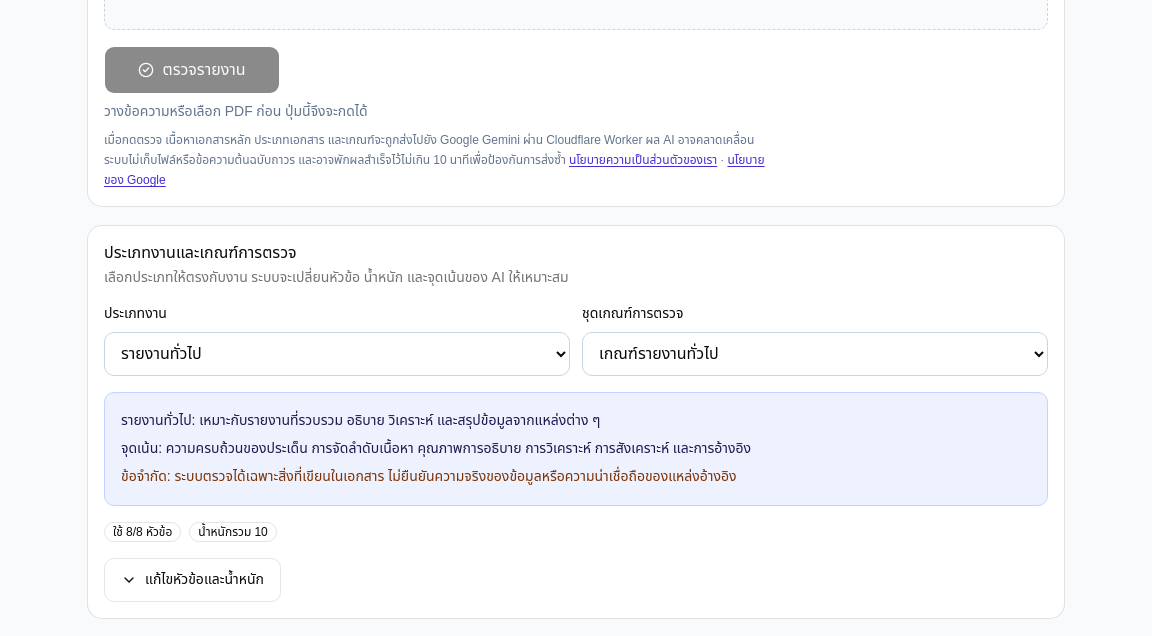
Test case: App › switches the full rubric and explanation with the document type
(page scrolled)
Expected: the text "ใช้ 8/8 หัวข้อ" is shown, [104,522,181,542]
Expected: the text "รวบรวม อธิบาย วิเคราะห์ และสรุปข้อมูล" is shown, [199,410,600,431]
Select "โครงงาน" in the dropdown labelled "ประเภทงาน": (337, 354) [104,332,570,376]
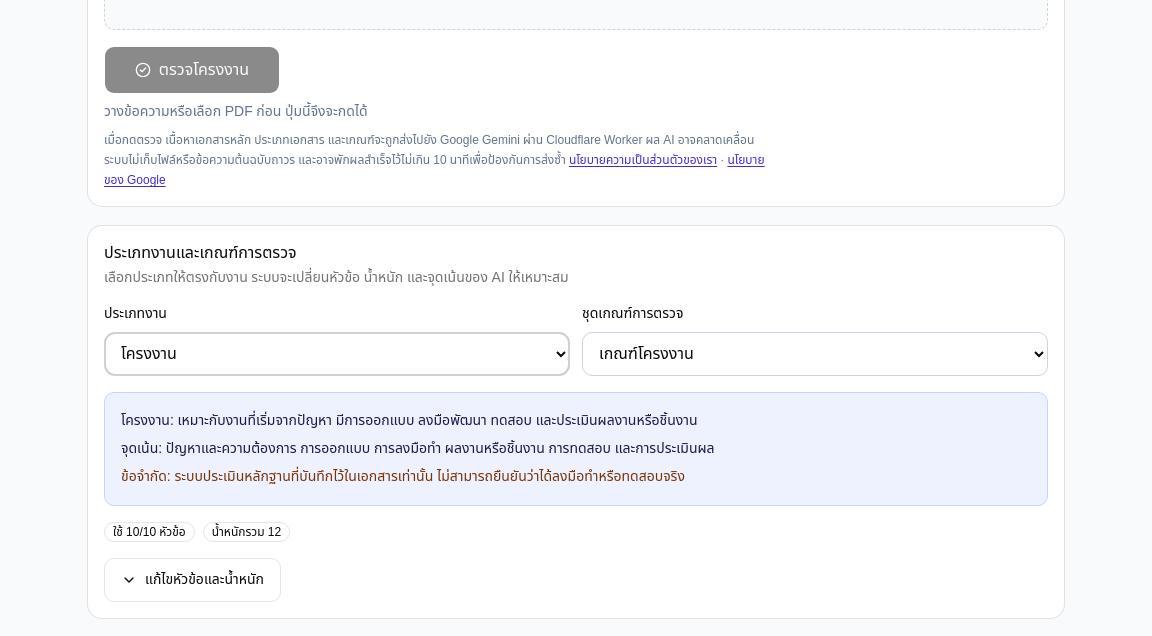
Now the dropdown labelled "ชุดเกณฑ์การตรวจ" shows "เกณฑ์โครงงาน", box [582,332,1048,376]
Now the text "ใช้ 10/10 หัวข้อ" is shown, box [104,522,195,542]
Now the text "ไม่สามารถยืนยันว่าได้ลงมือทำหรือทดสอบจริง" is shown, box [174,466,685,487]
Select "รายงานวิจัย" in the dropdown labelled "ประเภทงาน": (337, 354) [104,332,570,376]
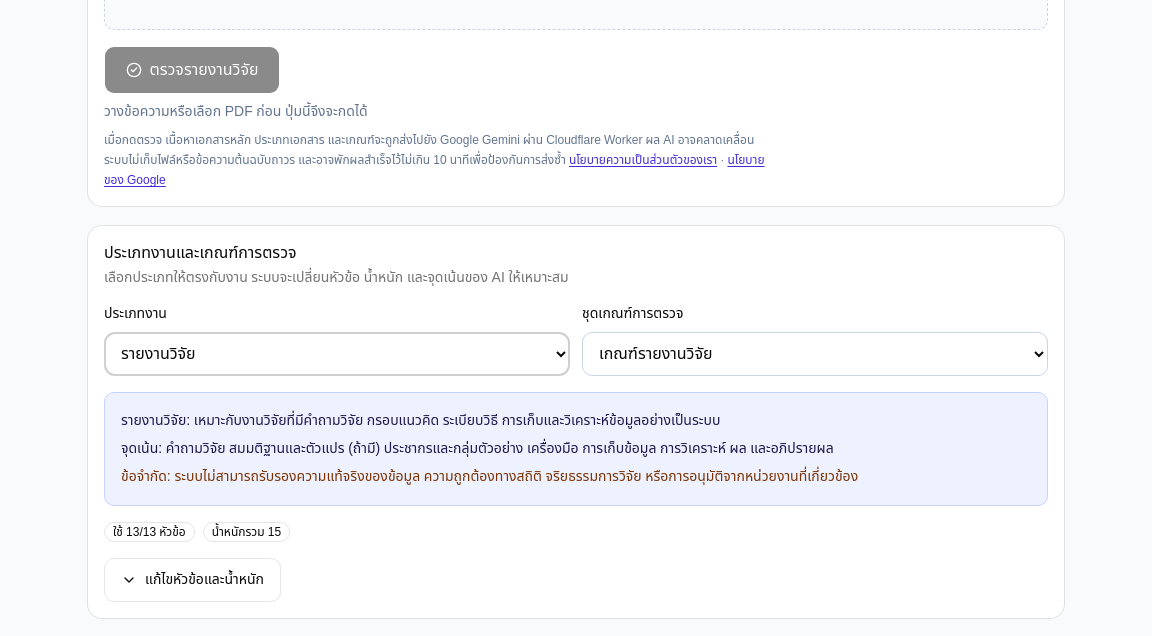
Now the dropdown labelled "ชุดเกณฑ์การตรวจ" shows "เกณฑ์รายงานวิจัย", box [582,332,1048,376]
Now the text "ใช้ 13/13 หัวข้อ" is shown, box [104,522,195,542]
Click the button "แก้ไขหัวข้อและน้ำหนัก": (192, 580) [104,558,281,602]
(page scrolled)
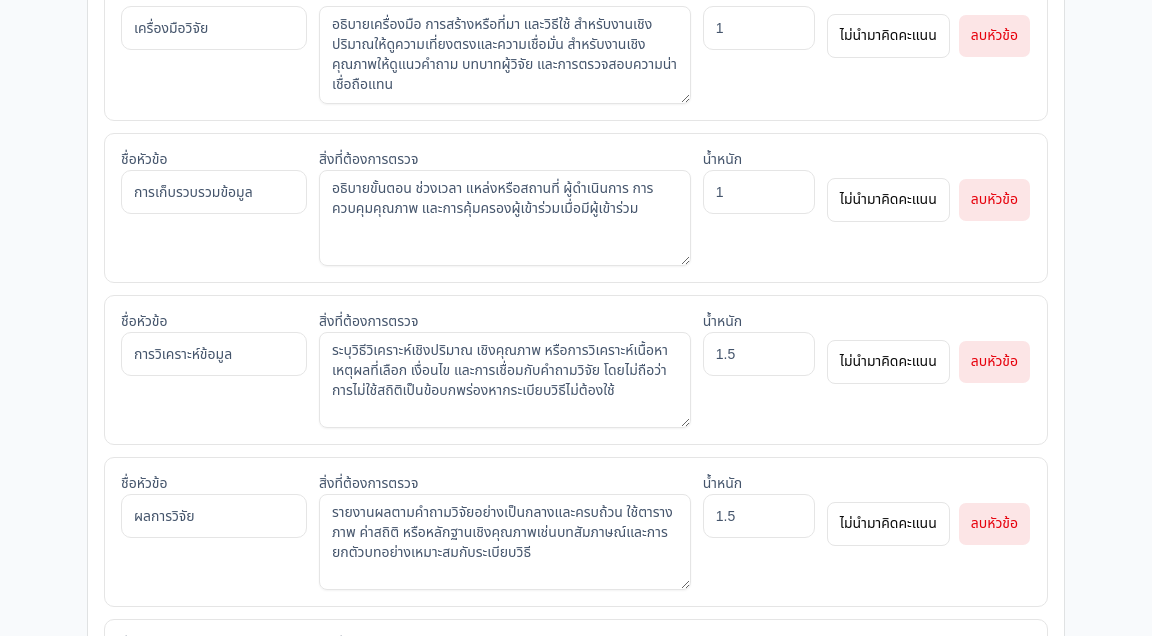
Now the field named "ชื่อหัวข้อ เครื่องมือวิจัย" is shown, box [121,6,307,50]
Now the field named "ชื่อหัวข้อ การวิเคราะห์ข้อมูล" is shown, box [121,332,307,376]
